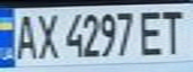2: (78, 9, 100, 60)
4: (60, 9, 84, 58)
7: (115, 8, 139, 57)
9: (96, 9, 121, 58)
A: (9, 10, 39, 61)
E: (136, 7, 169, 56)
T: (157, 6, 190, 55)
X: (33, 10, 60, 61)
